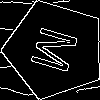M: (30, 24, 89, 78)
